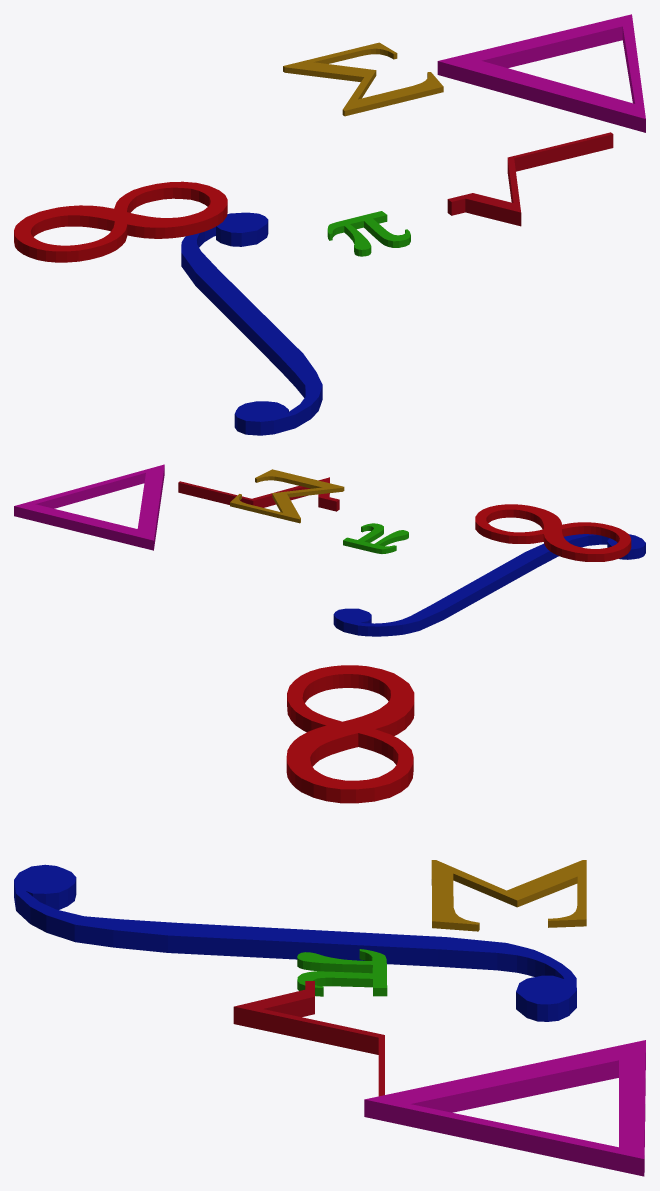
File: math.dae
The picture shows the model from 3 angles, top to bottom: view 1: azimuth 30°, elevation 25°; view 2: azimuth 150°, elevation 25°; view 3: azimuth 270°, elevation 25°; orthographic projection. The views are drawn at different scales.
Parts seen in each view (by area): view 1: nabla, integral, infinity, sum, radical, Pi; view 2: integral, nabla, infinity, sum, radical, Pi; view 3: integral, nabla, infinity, sum, radical, Pi.
Boxes of the visible parts, <box> form: nabla: <box>437,14,645,132</box>; integral: <box>181,212,322,435</box>; infinity: <box>14,181,227,262</box>; sum: <box>283,42,443,116</box>; radical: <box>447,132,613,226</box>; Pi: <box>327,211,410,256</box>; integral: <box>333,534,645,636</box>; nabla: <box>14,464,164,550</box>; infinity: <box>475,504,631,561</box>; sum: <box>230,469,344,523</box>; radical: <box>178,477,339,511</box>; Pi: <box>343,523,408,553</box>; integral: <box>14,864,576,1021</box>; nabla: <box>364,1040,645,1176</box>; infinity: <box>286,665,414,803</box>; sum: <box>431,860,586,931</box>; radical: <box>233,981,384,1096</box>; Pi: <box>297,949,387,996</box>.
Size of the model in its own units: 27.49 by 16.37 by 5.22.
